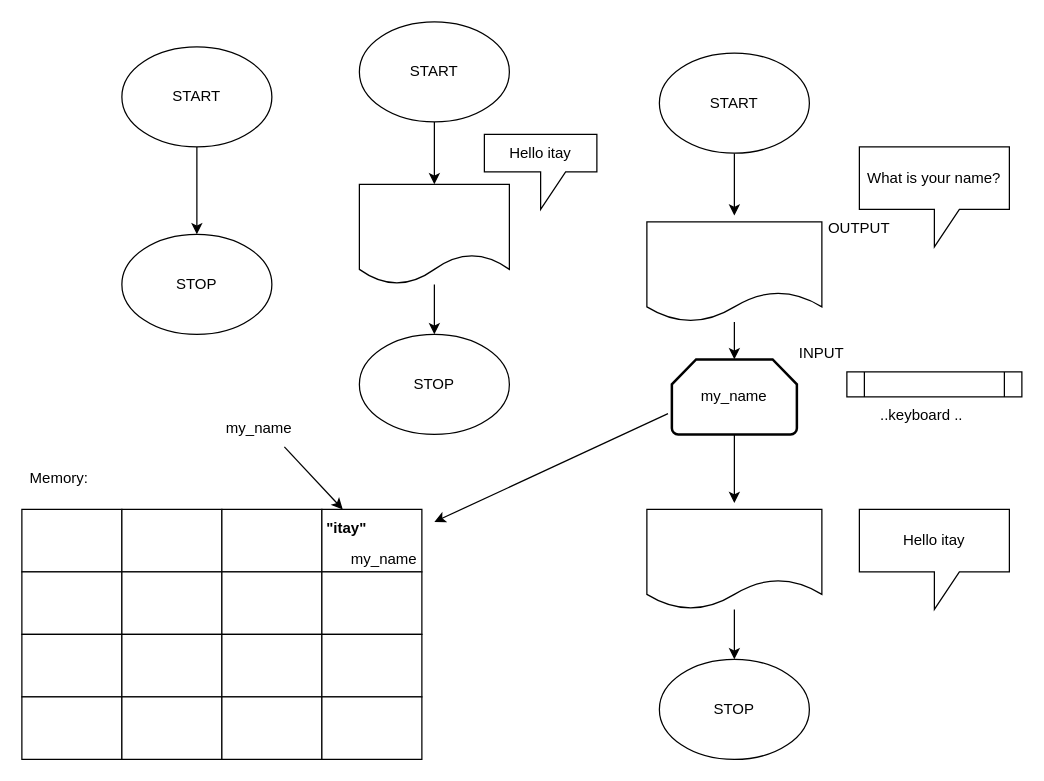
Some shapes in this 1044 by 781 pixel diagram are drawn without their labels. The centre of each missing label's shape, as x and y in pixels:
"Hello itay": (x=433, y=233)
"Hello," , my_name: (x=734, y=558)
"What is your name?": (x=734, y=271)
itay: (x=934, y=384)
